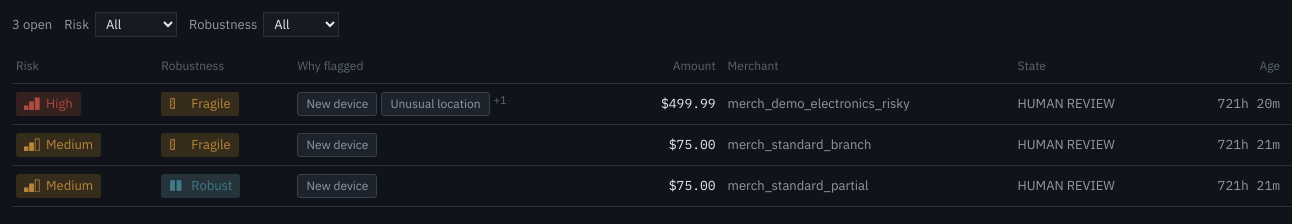
QueueTable › filters by risk band
Step 1. Select "High" in the dropdown labelled "Risk" → (136, 24), box [95, 12, 177, 37]
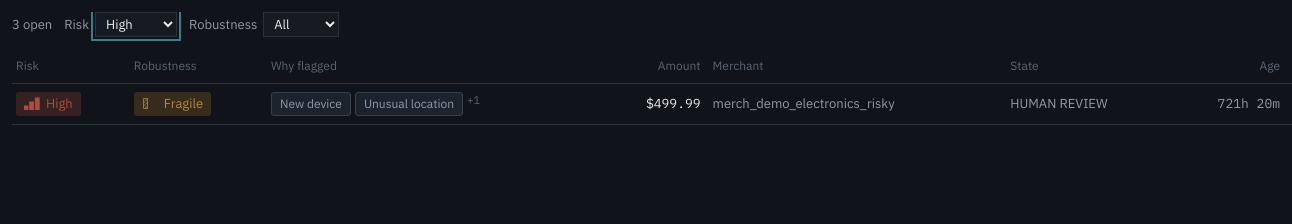
Expected: the text "merch_demo_electronics_risky" is shown, [712, 84, 1010, 124]
Now the text "merch_standard_branch" is gone
